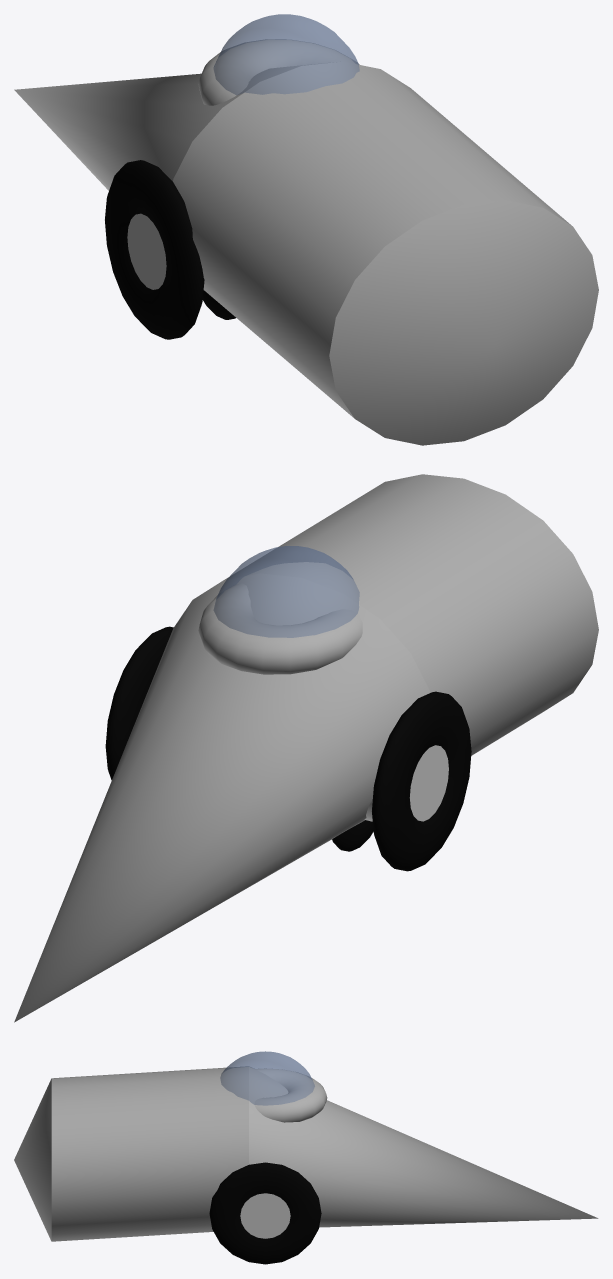
The model's file is RacerBil.fbx.
3 views of the same model, one above another, from view 1: azimuth 30°, elevation 25°; view 2: azimuth 150°, elevation 25°; view 3: azimuth 270°, elevation 25° (orthographic). The views are drawn at different scales.
Visible parts, largest first — view 1: pCylinder4; view 2: pCylinder4; view 3: pCylinder4.
Part boxes in pixels (x1,y1,x2,y2): pCylinder4: (14, 14, 598, 445); pCylinder4: (14, 474, 598, 1022); pCylinder4: (14, 1051, 598, 1264).
Size of the model in its own units: 2.69 by 2.58 by 7.75.
